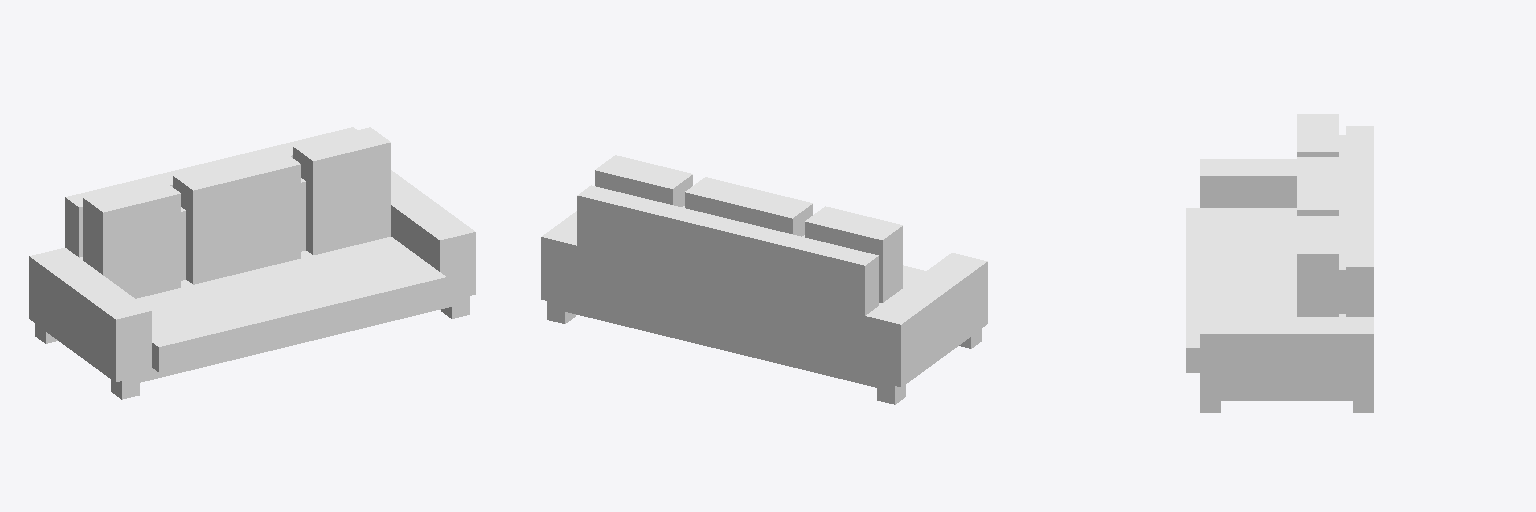
The model's file is divan.obj.
3 views of the same model, side by side, from view 1: azimuth 30°, elevation 25°; view 2: azimuth 150°, elevation 25°; view 3: azimuth 270°, elevation 25° (orthographic).
Visible parts, largest first — view 1: divan; view 2: divan; view 3: divan.
Part boxes in pixels (x1,y1,x2,y2): divan: (29, 127, 475, 399); divan: (541, 155, 987, 404); divan: (1186, 114, 1373, 412).
Bounding box in the file's own units: 120 × 46 × 54.